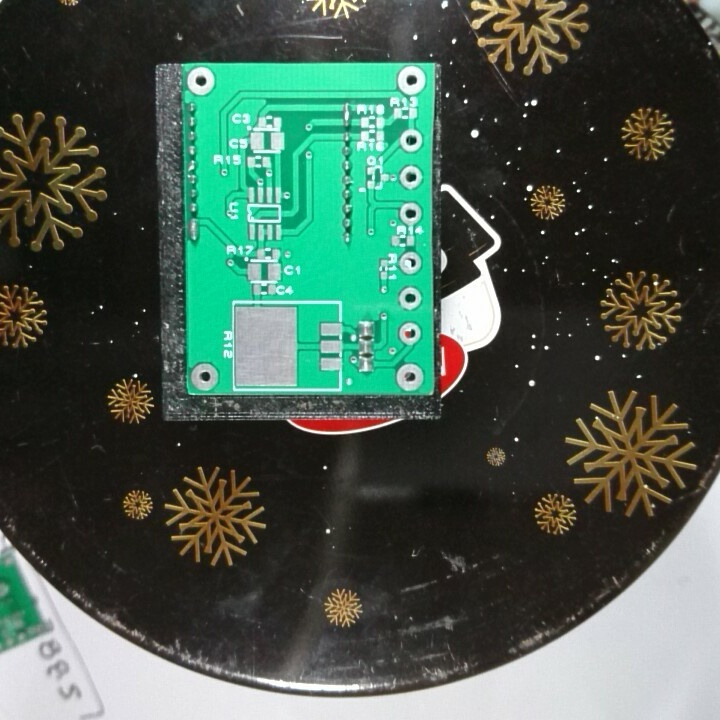F: (395, 63, 428, 98), (184, 64, 217, 99), (189, 360, 222, 392), (394, 361, 425, 392), (396, 247, 424, 276), (398, 164, 425, 191), (397, 284, 424, 311), (399, 126, 425, 152), (397, 319, 422, 346), (398, 200, 422, 227)
P: (341, 100, 353, 128), (187, 217, 199, 243)
